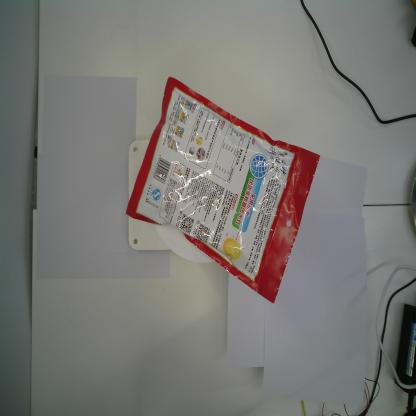Instant Drink: (126, 76, 320, 304)
